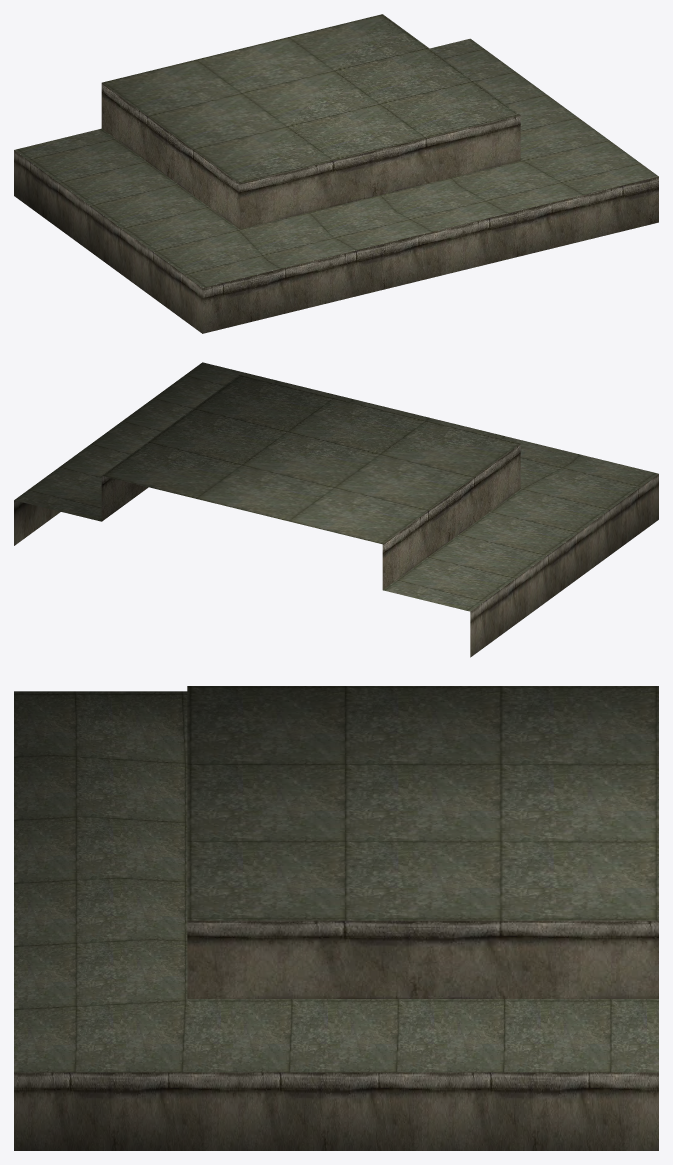
Rendered from OC_THRONE_GROUND.glb.
3 renders of one model, top to bottom at view 1: azimuth 30°, elevation 25°; view 2: azimuth 150°, elevation 25°; view 3: azimuth 270°, elevation 25°, orthographic. The views are drawn at different scales.
Visible parts, largest first — view 1: Mesh; view 2: Mesh; view 3: Mesh.
Part boxes in pixels (x1=…): Mesh: x1=14, y1=14, x2=658, y2=333; Mesh: x1=14, y1=362, x2=658, y2=657; Mesh: x1=14, y1=686, x2=658, y2=1150.
Size of the model in its own units: 2.6 by 0.5001 by 1.86.
2 materials, 2 textured.
